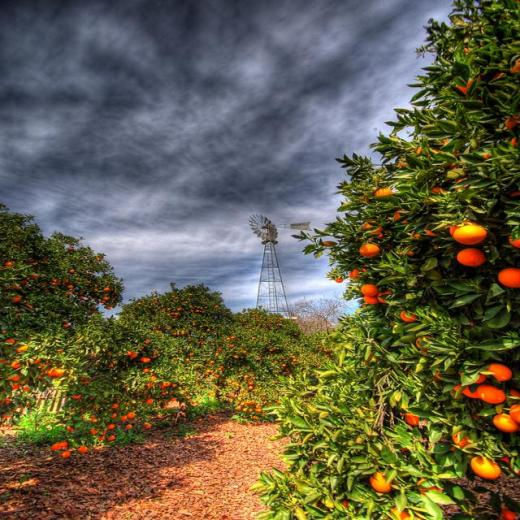Grape: (450, 228, 492, 242)
